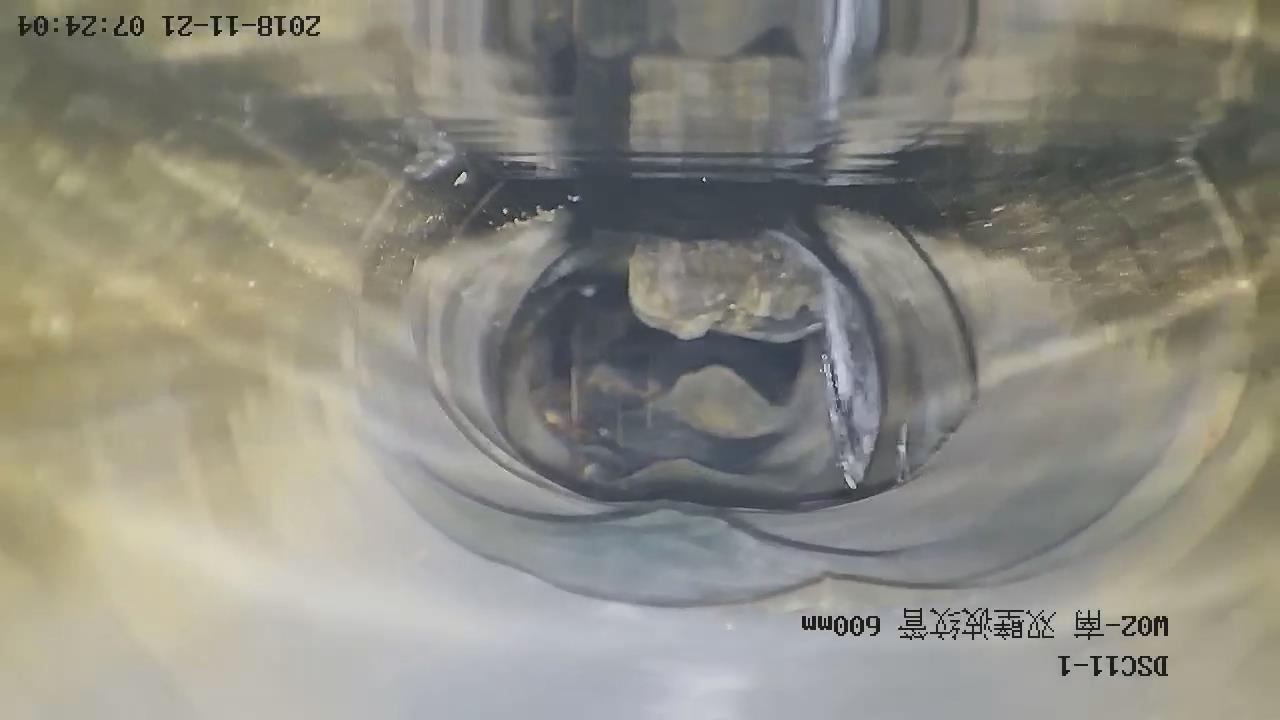BX: (299, 131, 1256, 614)
SL: (793, 273, 884, 489)
ZAW: (629, 236, 823, 342)
